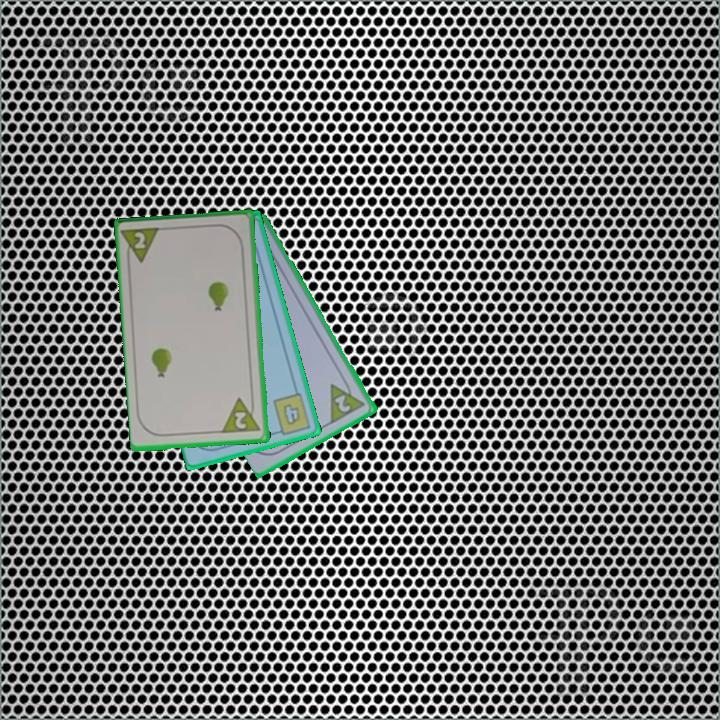2p: (120, 224, 164, 268), (331, 391, 354, 416), (231, 408, 249, 432)
4b: (269, 389, 314, 438)
